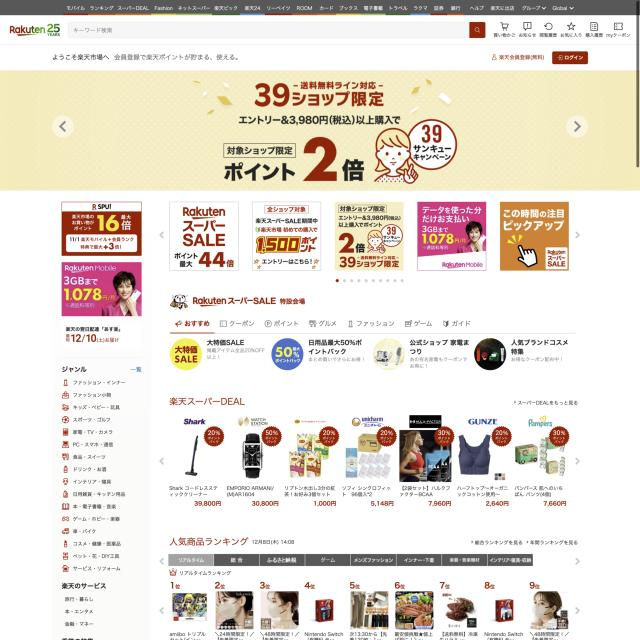CheckBox: (552, 51, 588, 65), (469, 21, 486, 38)
CheckedTextView: (68, 22, 486, 38)
ImageView: (61, 261, 142, 317), (61, 201, 141, 257)
Switch: (0, 71, 640, 191), (156, 198, 584, 286)
bag: (0, 0, 640, 70)
carousel: (491, 53, 496, 61)
date picker: (7, 20, 62, 38)
decoration: (59, 374, 135, 577), (56, 0, 579, 16), (50, 49, 244, 65), (493, 20, 631, 40)
dropdown: (329, 274, 407, 286)
footer: (71, 27, 114, 35)
icon: (170, 552, 534, 566)
